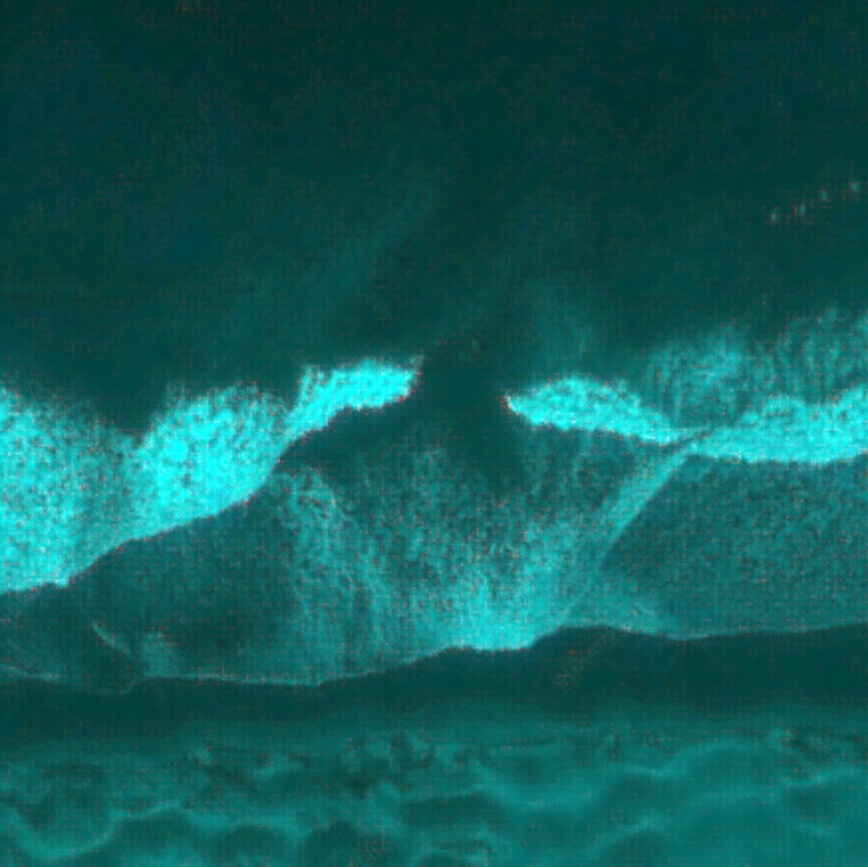rip_current: (253, 249, 581, 604)
